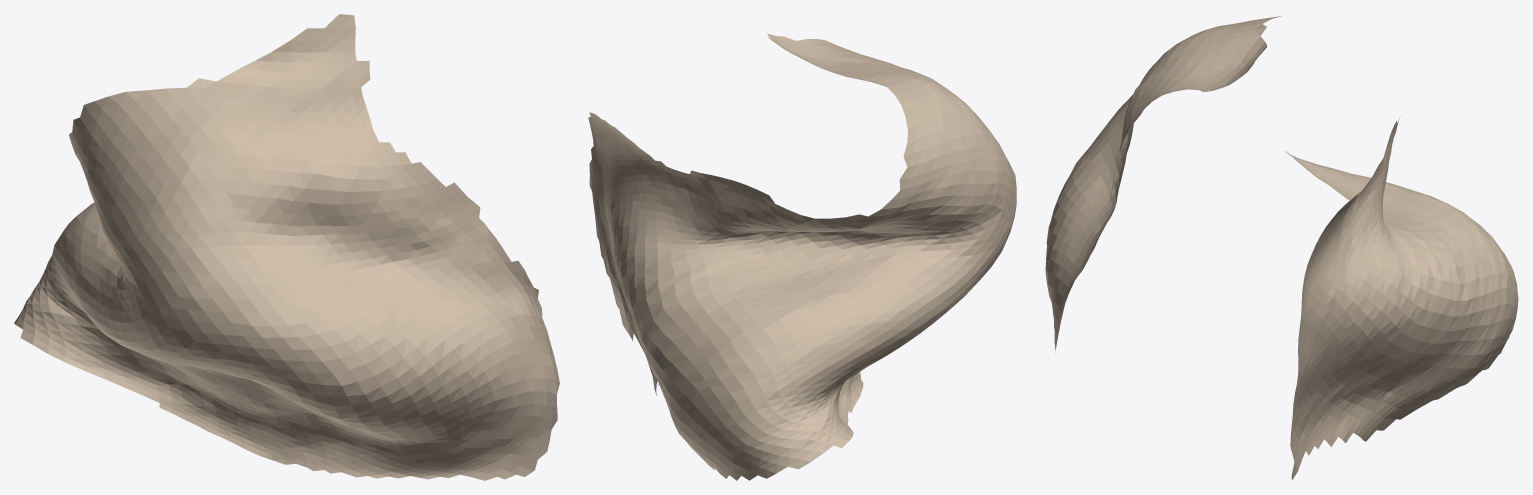
File: lh_parsopercularis.glb
3 views of the same model, side by side, from view 1: azimuth 30°, elevation 25°; view 2: azimuth 150°, elevation 25°; view 3: azimuth 270°, elevation 25° (orthographic). The views are drawn at different scales.
Visible parts, largest first — view 1: world; view 2: world; view 3: world.
Boxes of the visible parts, x1,y1,x2,y2 form: world: [14, 14, 559, 480]; world: [588, 33, 1016, 480]; world: [1045, 16, 1518, 480].
Bounding box in the file's own units: 25.49 × 26.41 × 29.17.
